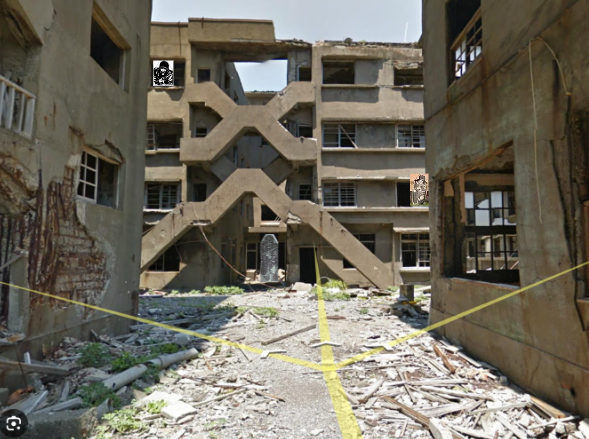HVT1: (260, 233, 278, 281), (152, 60, 173, 86), (415, 175, 428, 206)
